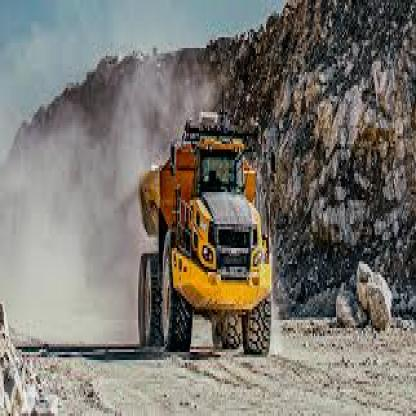dump_truck: (120, 125, 280, 363)
